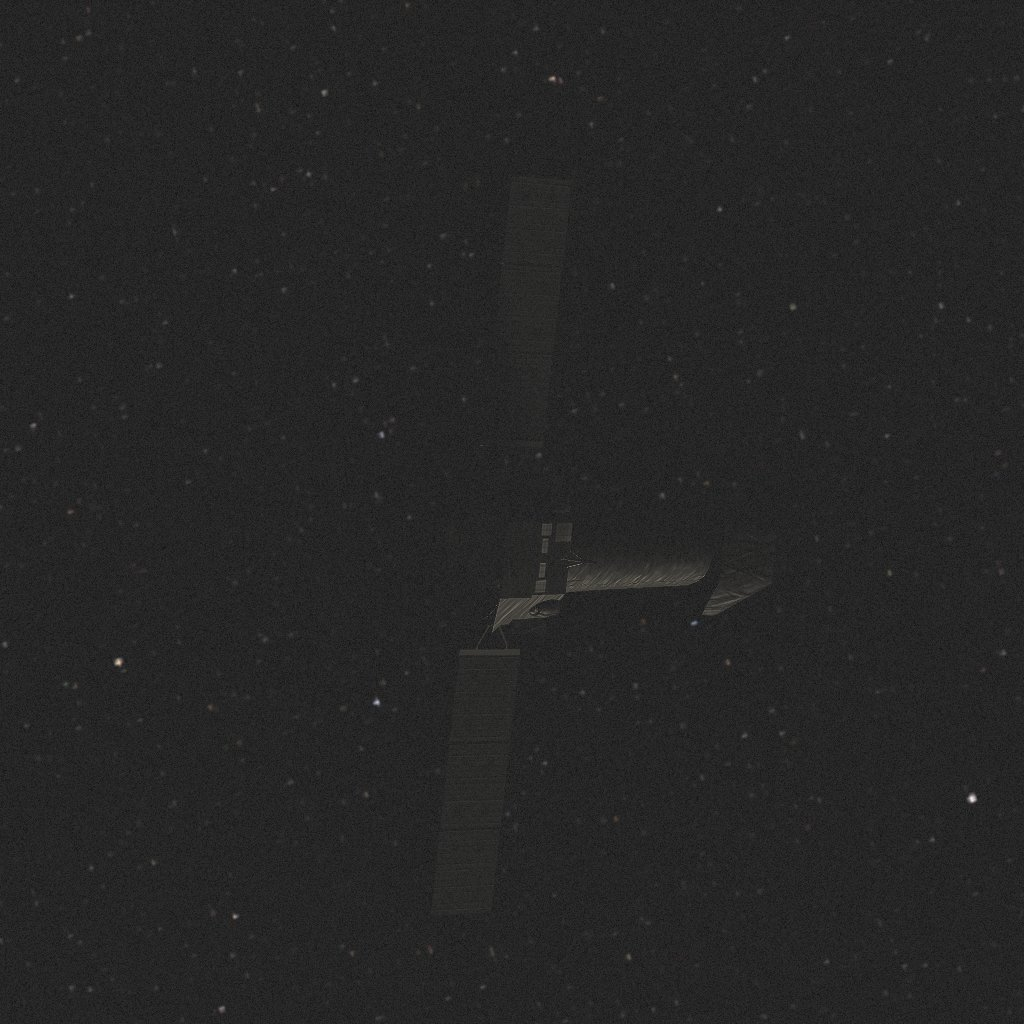xmm_newton: (428, 167, 716, 933)
